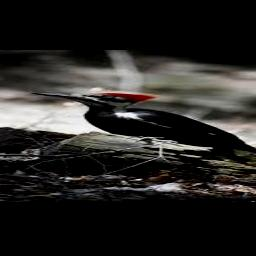Woodpecker: (32, 91, 256, 161)
